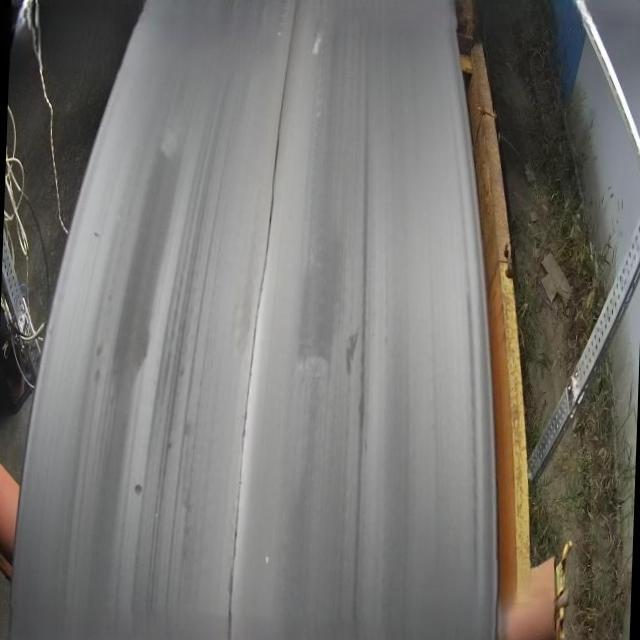Tear: (220, 0, 302, 640)
